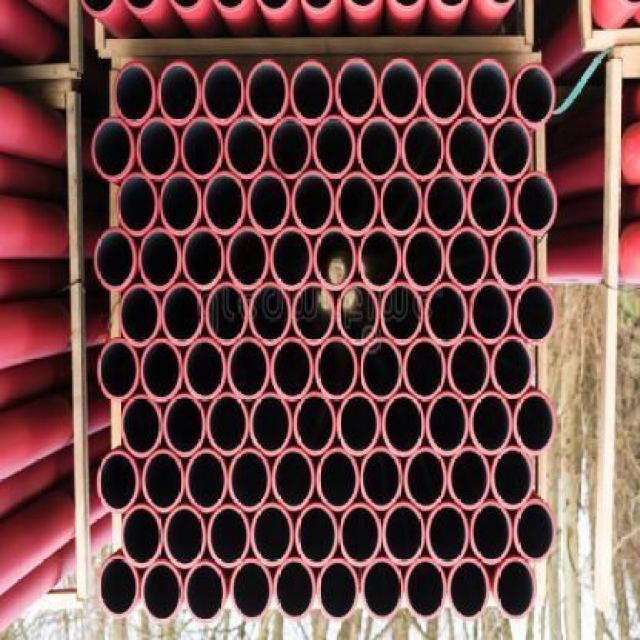pipe: (163, 505, 209, 570), (469, 280, 514, 345), (337, 393, 382, 456), (512, 63, 557, 126), (142, 448, 185, 513), (185, 448, 228, 513), (163, 392, 206, 457), (382, 392, 425, 457), (514, 392, 557, 457), (140, 337, 183, 402), (403, 337, 446, 402), (183, 337, 226, 402), (425, 282, 468, 347), (337, 282, 380, 347), (402, 228, 445, 293), (139, 226, 182, 291), (226, 226, 269, 291), (293, 171, 336, 236), (160, 169, 203, 234), (93, 117, 136, 182), (422, 60, 465, 125), (379, 59, 422, 124), (336, 59, 379, 124), (208, 503, 251, 568), (491, 228, 536, 289), (95, 228, 137, 293), (358, 226, 400, 291), (405, 555, 447, 620), (98, 554, 140, 619), (468, 59, 510, 124), (340, 503, 382, 568), (97, 451, 140, 514), (317, 448, 360, 511), (405, 448, 448, 511), (273, 448, 316, 511), (294, 393, 337, 456), (206, 393, 249, 456), (426, 393, 469, 456), (250, 391, 293, 454), (228, 337, 271, 400), (271, 337, 314, 400), (316, 337, 359, 400), (448, 337, 491, 400), (119, 283, 162, 346), (293, 283, 336, 346), (206, 283, 249, 346), (380, 282, 423, 345), (314, 228, 357, 291), (182, 226, 225, 289), (380, 173, 423, 236), (425, 173, 468, 236), (248, 173, 291, 236), (203, 171, 246, 234), (140, 562, 183, 625), (185, 560, 228, 623), (402, 117, 445, 180), (446, 117, 489, 180), (231, 559, 274, 622), (113, 62, 156, 125), (291, 62, 334, 125), (120, 505, 163, 568), (251, 503, 294, 566), (382, 503, 425, 566), (360, 448, 403, 510), (120, 395, 163, 457), (271, 226, 314, 288), (514, 172, 557, 234), (116, 172, 159, 234), (180, 117, 223, 179), (270, 115, 313, 177), (225, 115, 268, 177), (246, 62, 289, 124), (202, 62, 245, 124), (159, 60, 200, 125), (229, 448, 271, 511), (448, 448, 490, 511), (492, 446, 534, 509), (471, 393, 513, 456), (360, 337, 402, 400), (492, 336, 534, 399), (162, 282, 204, 345), (515, 282, 557, 345), (469, 173, 511, 236), (337, 173, 379, 236), (137, 117, 179, 180), (314, 116, 356, 179), (297, 503, 339, 566), (428, 502, 470, 565), (471, 502, 513, 565), (249, 283, 291, 345), (317, 560, 359, 622), (491, 118, 533, 180), (357, 117, 399, 179), (274, 558, 316, 620), (362, 558, 404, 620), (495, 557, 537, 619), (514, 502, 557, 562), (446, 228, 488, 289), (99, 337, 139, 400), (449, 558, 489, 620)
